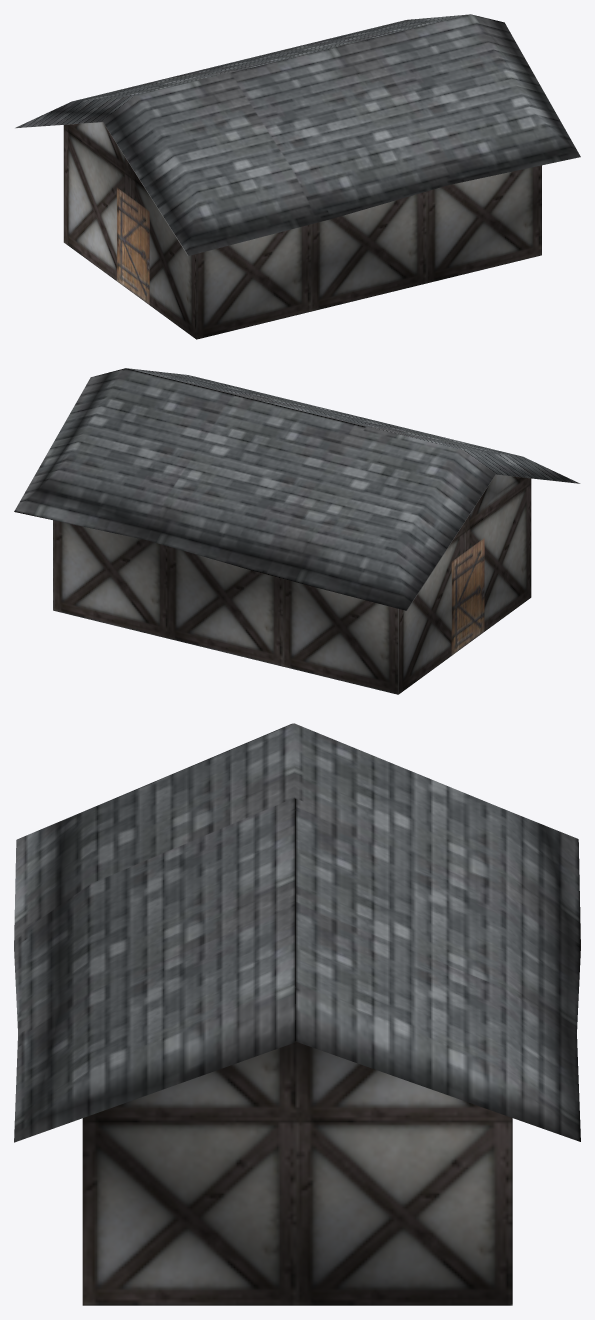
Rendered from doublehouse.obj.
The picture shows the model from 3 angles, top to bottom: view 1: azimuth 30°, elevation 25°; view 2: azimuth 150°, elevation 25°; view 3: azimuth 270°, elevation 25°; orthographic projection. The views are drawn at different scales.
Parts seen in each view (by area): view 1: cube2; view 2: cube2; view 3: cube2.
Boxes of the visible parts, bbox=[...] form: cube2: bbox=[15, 14, 580, 339]; cube2: bbox=[14, 368, 580, 694]; cube2: bbox=[14, 723, 580, 1305].
Bounding box in the file's own units: 6.9 × 3.18 × 5.2.
1 material, 1 textured.
